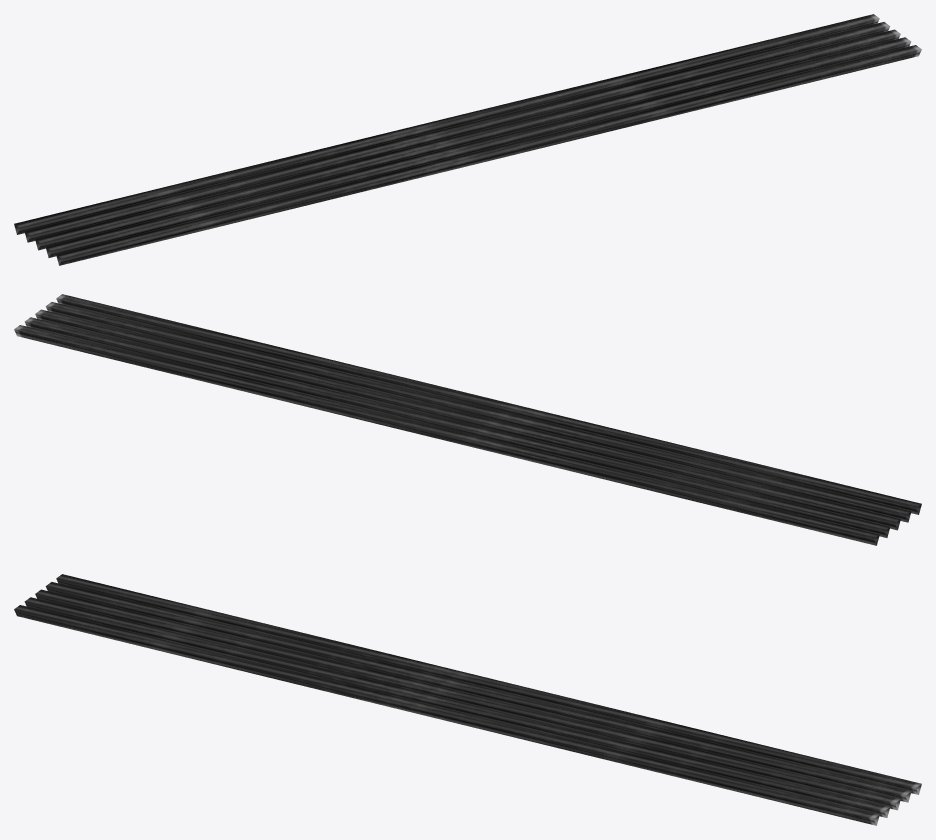
Rendered from CableD.FBX.
The picture shows the model from 3 angles, top to bottom: view 1: azimuth 30°, elevation 25°; view 2: azimuth 150°, elevation 25°; view 3: azimuth 330°, elevation 25°; orthographic projection.
Parts seen in each view (by area): view 1: CableD; view 2: CableD; view 3: CableD.
Boxes of the visible parts, bbox=[...] form: CableD: bbox=[14, 14, 921, 265]; CableD: bbox=[14, 294, 921, 545]; CableD: bbox=[14, 574, 921, 825].
Bounding box in the file's own units: 39.37 × 0.3937 × 3.83.
